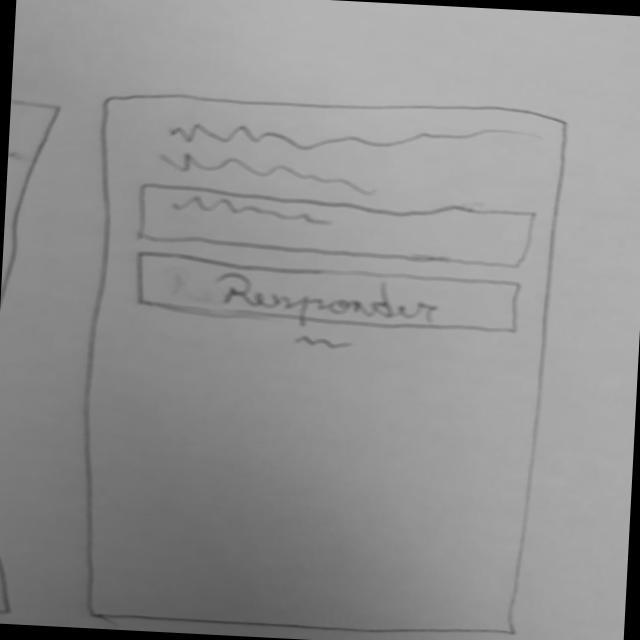button: (124, 252, 528, 339)
container: (69, 83, 569, 640)
input: (135, 182, 544, 274)
text: (281, 333, 367, 355)
textbox: (156, 111, 536, 197)
